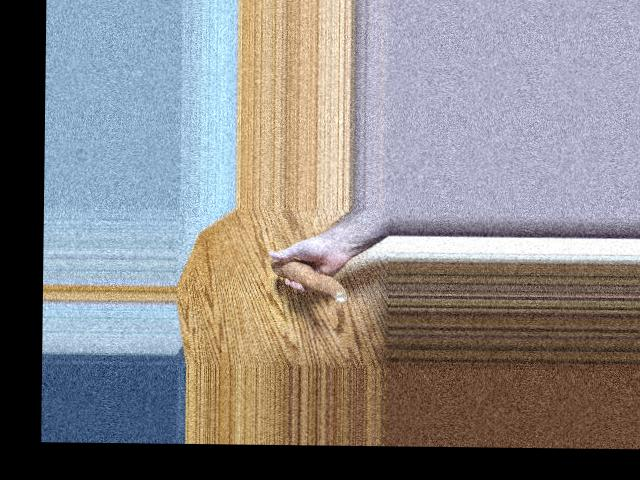sweet_potato: (273, 259, 351, 302)
